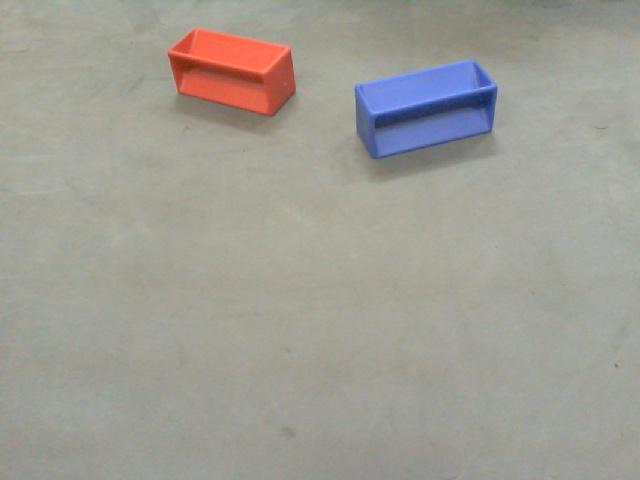BlueSample: (351, 58, 502, 162)
RedSample: (167, 27, 299, 121)
